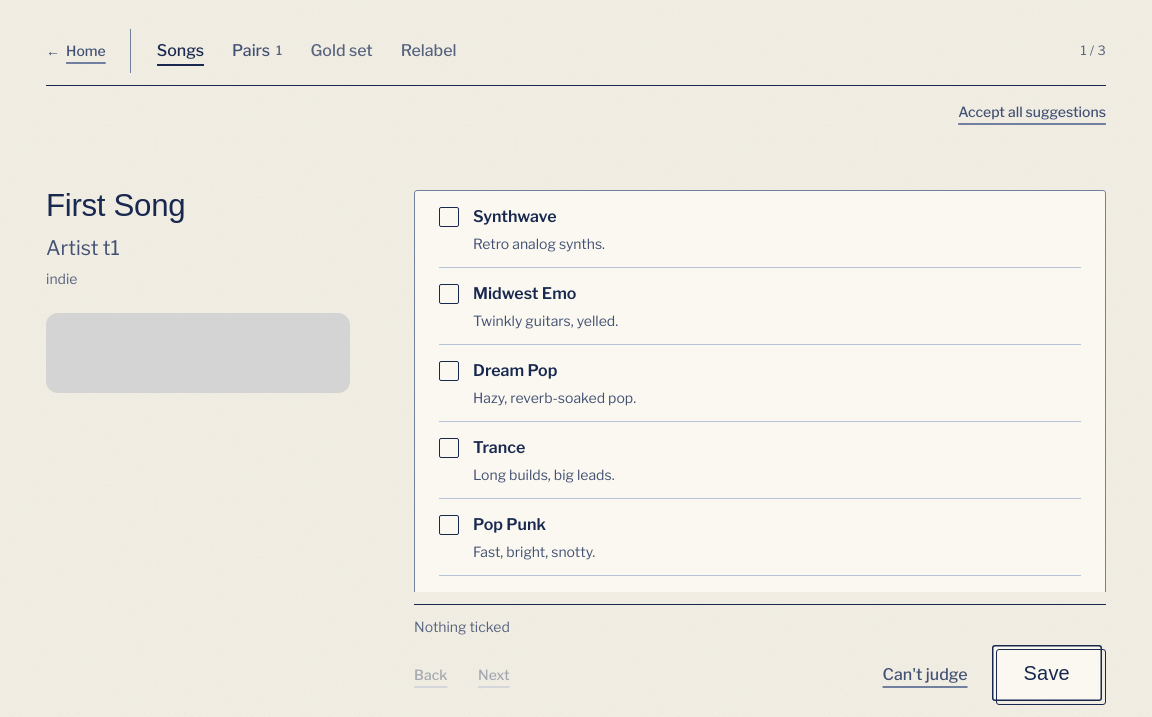
LabelApp: songs › Back after Can't judge shows that answer, not an empty label
This screenshot has width=1152, height=717.
Click the button "Can't judge". click: (925,675)
box: [883, 653, 968, 697]
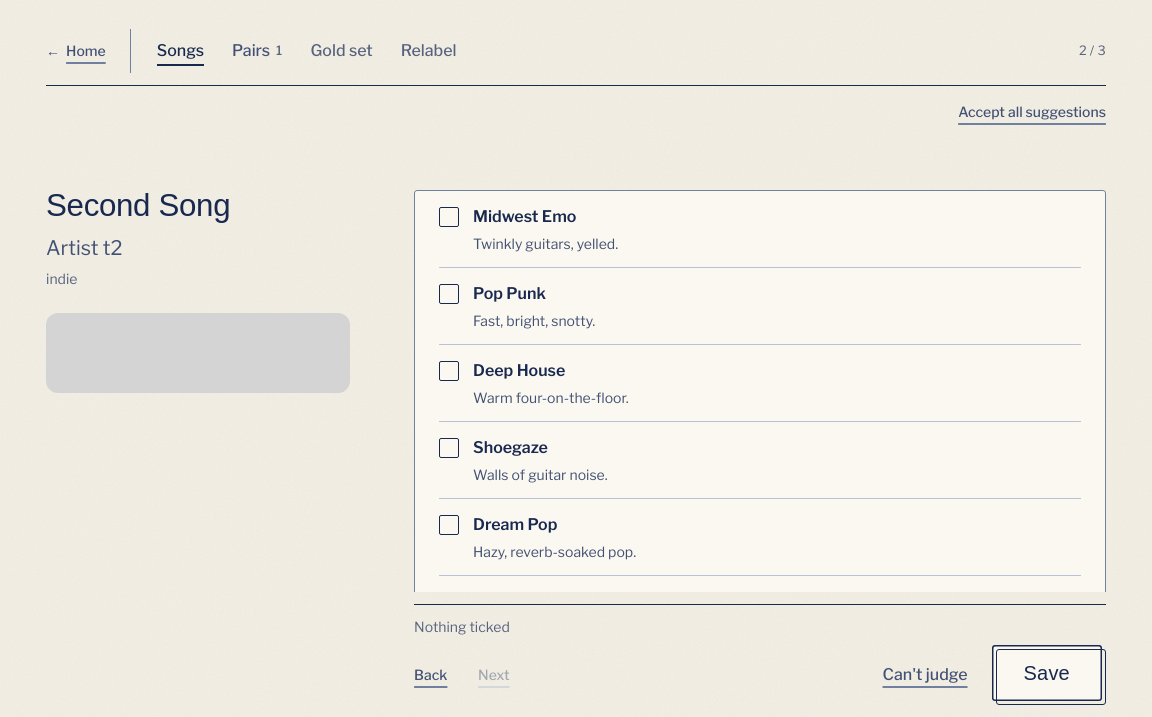
Expected: the text "Saved as can't judge." is not shown
Click the button "Back". click: (436,675)
box: [414, 653, 458, 697]
(page scrolled)
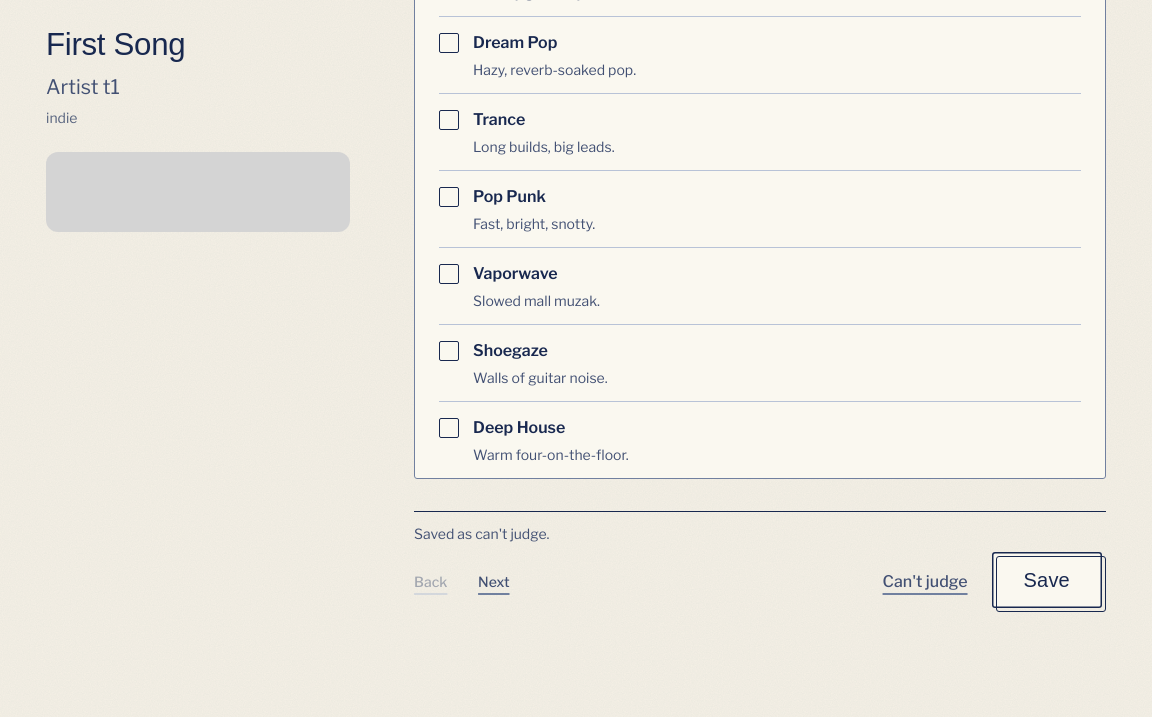
Expected: the checkbox labelled "Dream Pop Hazy, reverb-soaked pop." is not checked, [439, 33, 459, 53]
Expected: the text "Saved as can't judge." is shown, [414, 525, 550, 542]
